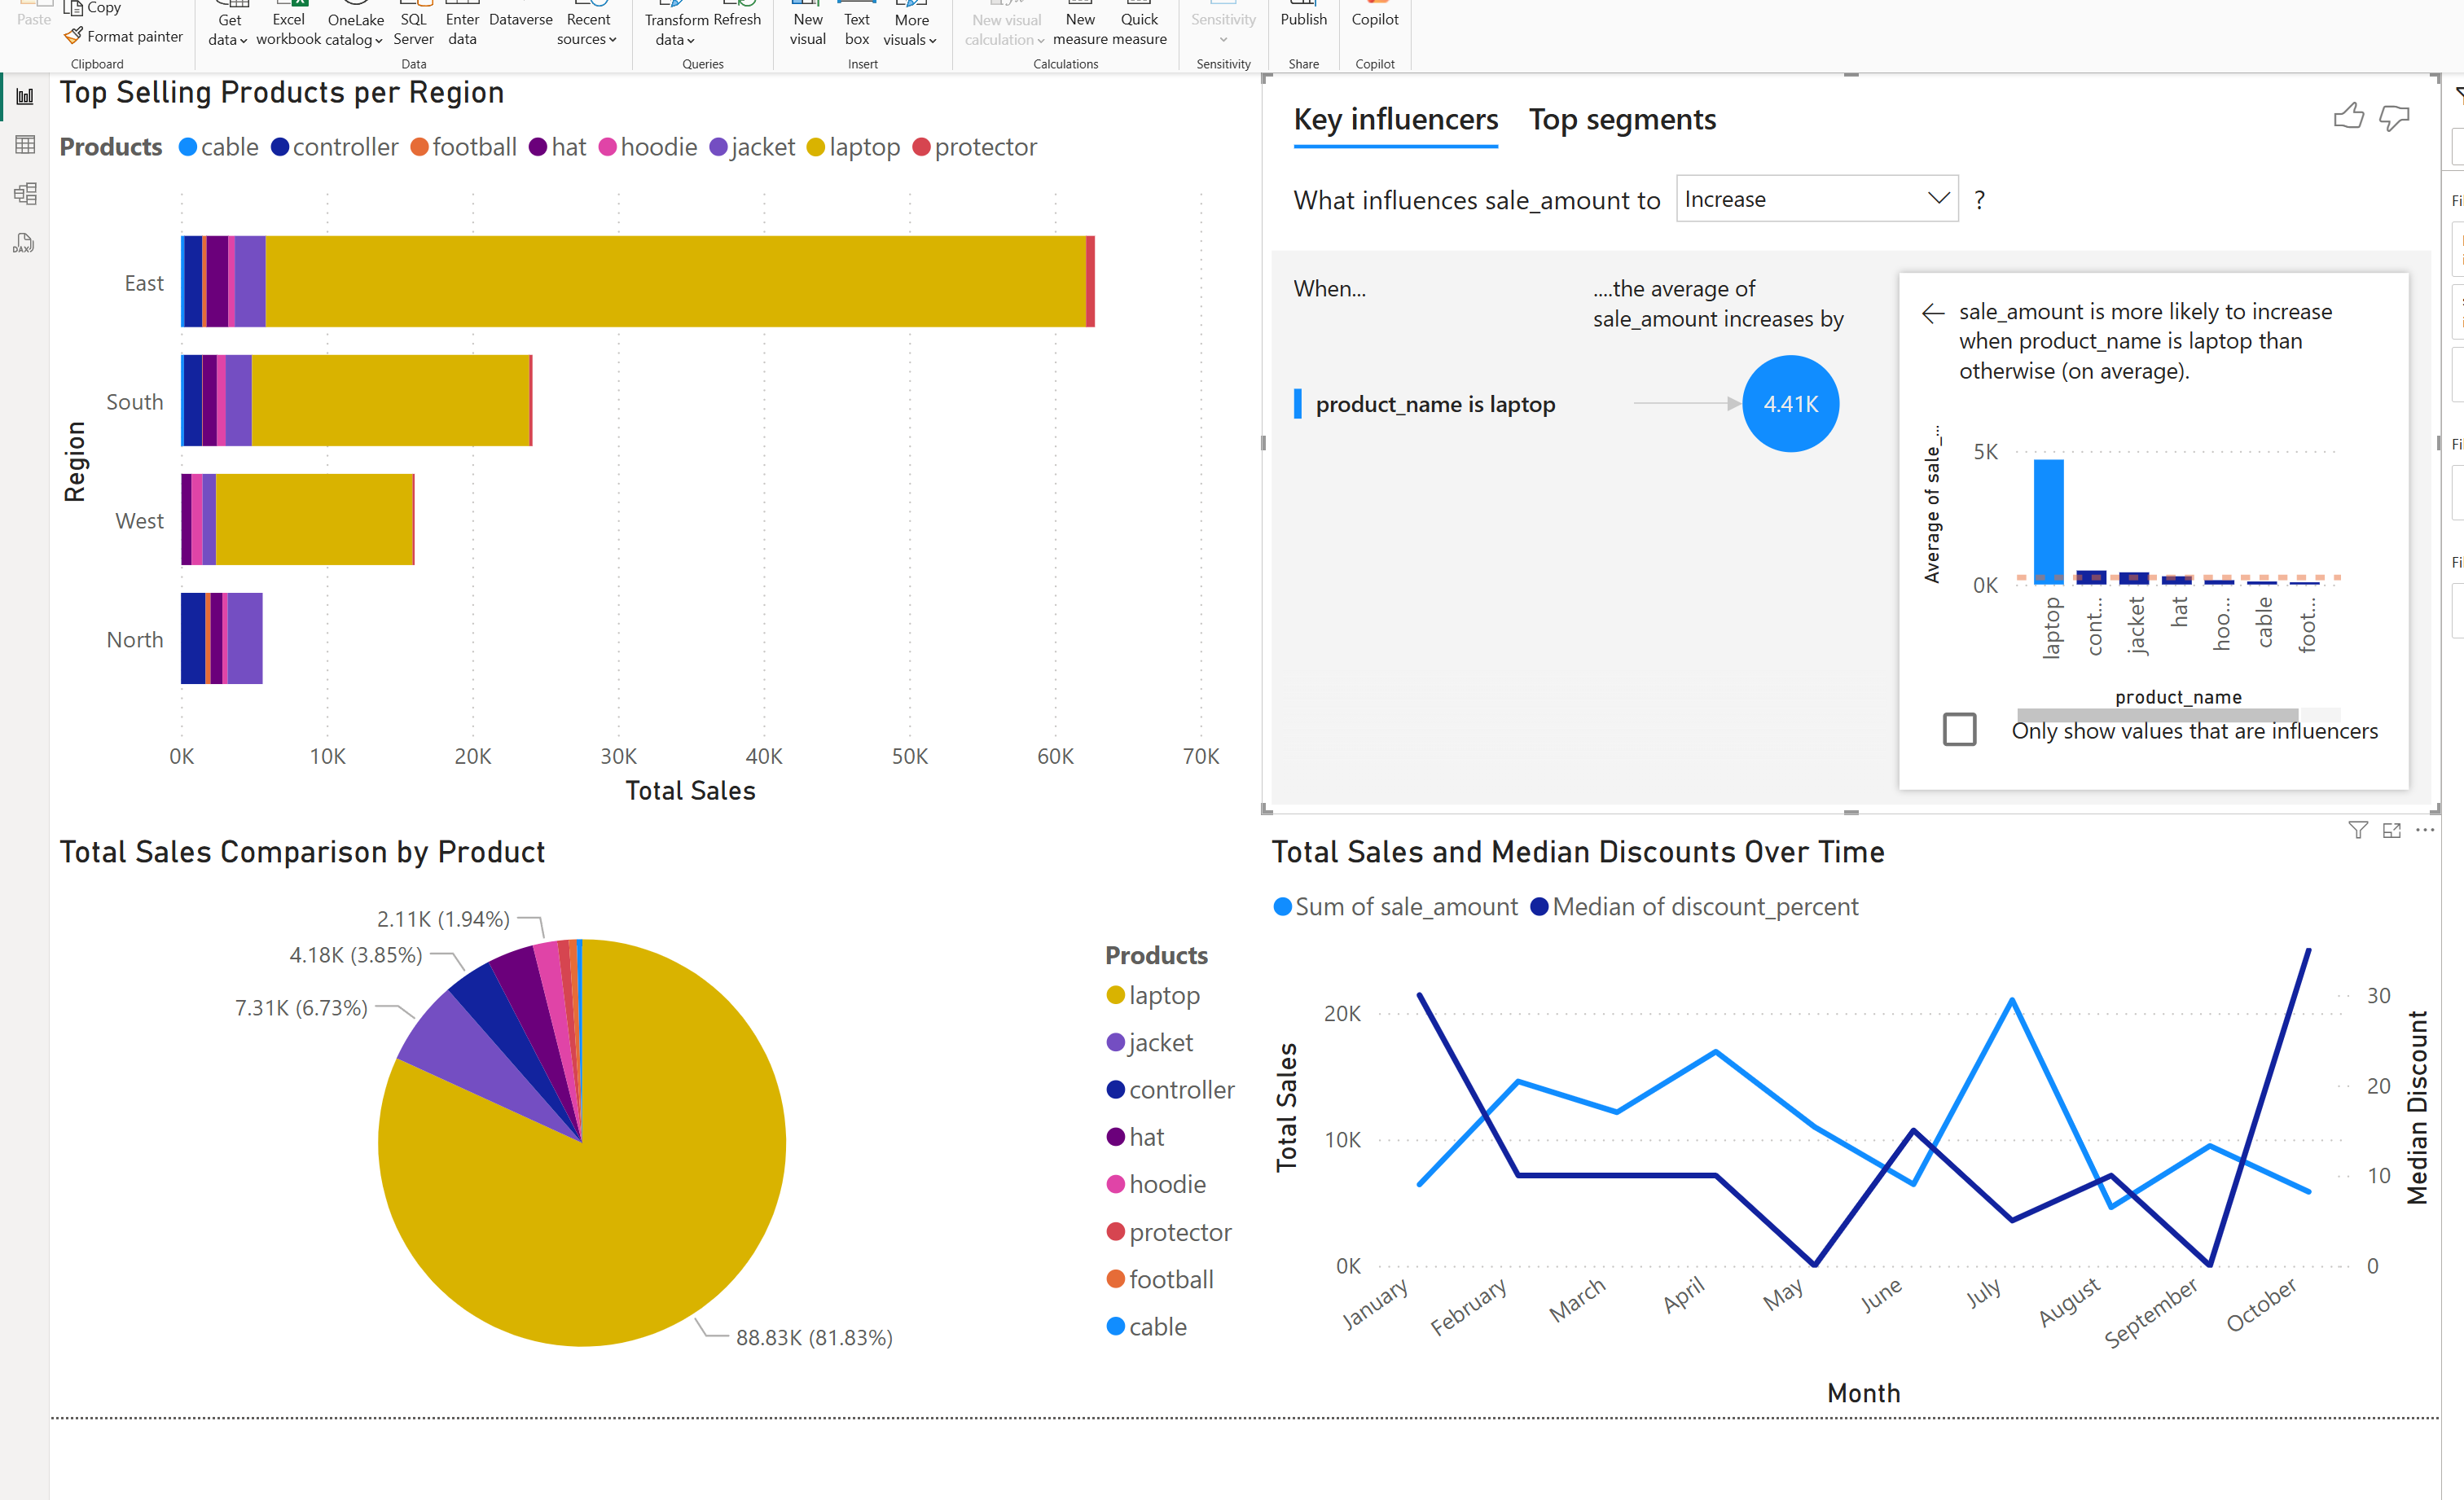

The page's visual inventory and layout, read from the dashboard file:
{"tool":"powerbi","page":{"name":"Page 1","canvas":[1280,720],"ordinal":0},"visuals":[{"type":"barChart","title":"Top Selling Products per Region","fields":{"Category":["customer.region"],"Y":["Sum(sale.sale_amount)"],"Series":["product.product_name"]},"box":[0,0,631.1,396.9],"z":0},{"type":"keyDriversVisual","fields":{"Target":["sale.sale_amount"],"ExplainBy":["product.product_name"]},"box":[648.7,0,631.1,396.9],"z":1000},{"type":"pieChart","title":"Total Sales Comparison by Product","fields":{"Category":["product.product_name"],"Y":["Sum(sale.sale_amount)"]},"box":[0,406.8,648.7,313.2],"z":1001},{"type":"lineChart","title":"Total Sales and Median Discounts Over Time","fields":{"Category":["sale.Parse.Variation.Date Hierarchy.Year","sale.Parse.Variation.Date Hierarchy.Quarter","sale.Parse.Variation.Date Hierarchy.Month","sale.Parse.Variation.Date Hierarchy.Day"],"Y":["Sum(sale.sale_amount)"],"Y2":["Median(sale.discount_percent)"]},"box":[649,407,631,313],"z":1002}]}

Visuals, with their boxes on the page's 1280x720 design canvas (x1, y1, x2, y2). These are canvas units, not pixel positions in the 2464x1500 screenshot, which may show the page scaled, cropped or inside an application window:
"Top Selling Products per Region" barChart: [0, 0, 631, 397]
keyDriversVisual - sale.sale_amount x product.product_name: [649, 0, 1280, 397]
"Total Sales Comparison by Product" pieChart: [0, 407, 649, 720]
"Total Sales and Median Discounts Over Time" lineChart: [649, 407, 1280, 720]
